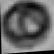correct: (0, 0, 52, 52)
